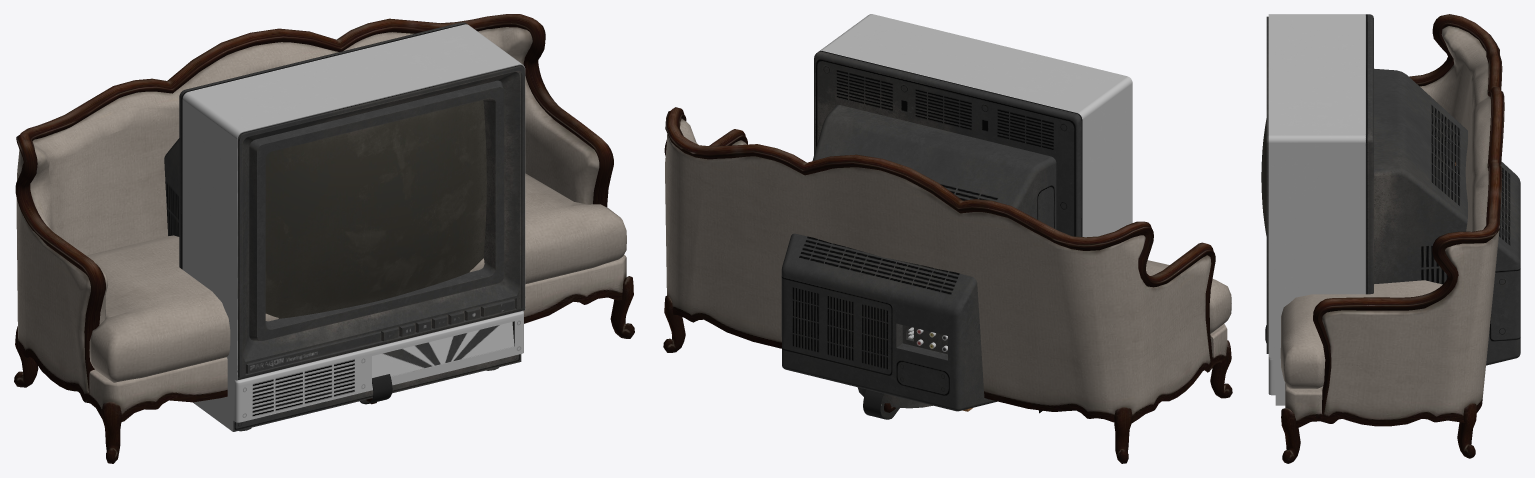
The model's file is interior-kit.glb.
3 renders of one model, left to right at view 1: azimuth 30°, elevation 25°; view 2: azimuth 150°, elevation 25°; view 3: azimuth 270°, elevation 25°, orthographic. The views are drawn at different scales.
Parts seen in each view (by area): view 1: LIB_tv, LIB_sofa_settee; view 2: LIB_sofa_settee, LIB_tv, LIB_coffee_table; view 3: LIB_tv, LIB_sofa_settee.
Part boxes in pixels (x1,y1,x2,y2): LIB_tv: (164,22,525,431); LIB_sofa_settee: (14,14,634,463); LIB_sofa_settee: (663,107,1232,463); LIB_tv: (781,14,1132,411); LIB_coffee_table: (863,389,899,419); LIB_tv: (1261,14,1520,405); LIB_sofa_settee: (1280,14,1504,463).
Bounding box in the file's own units: 2.05 × 1.15 × 0.9789.
12 materials, 12 textured.
